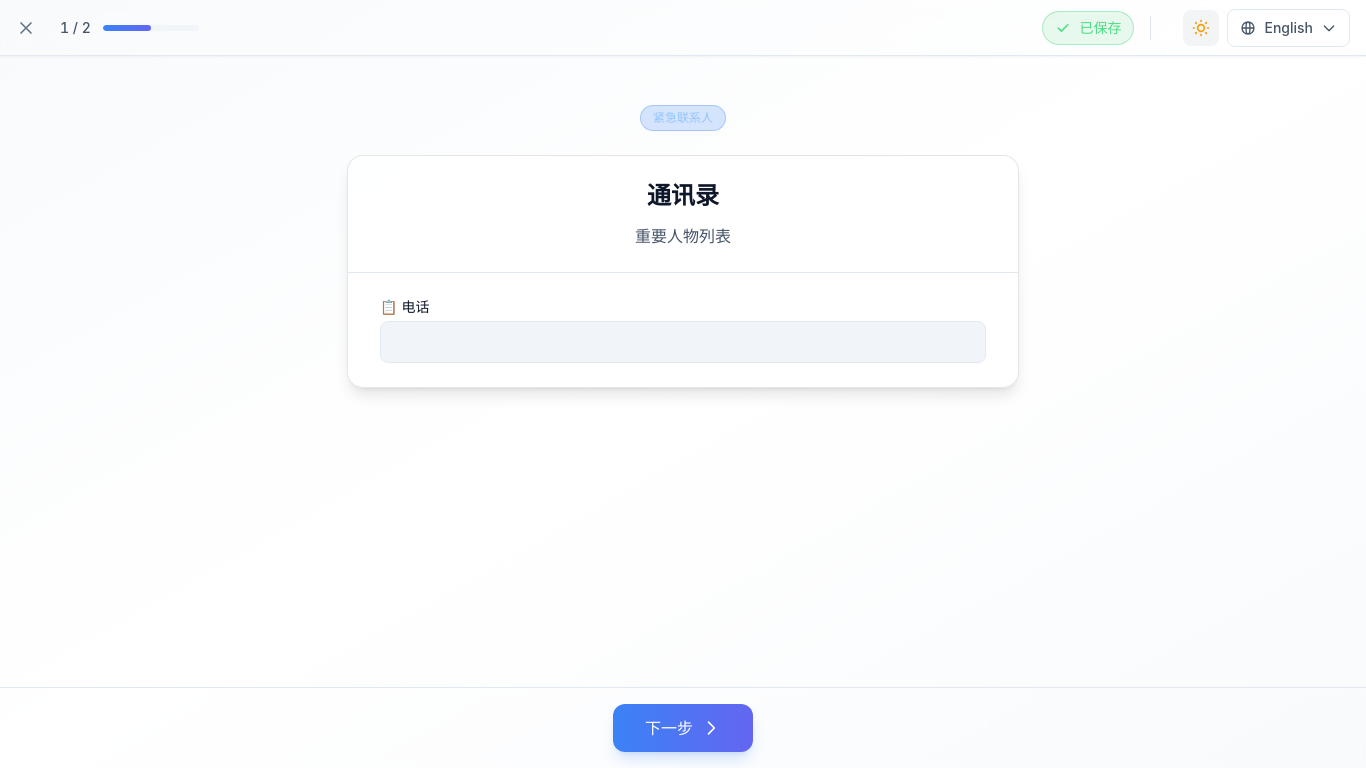
Test: ChecklistPage › Mode Toggle (Requirement 1.5) › should switch from zen mode to free mode when exit button is clicked
The image size is (1366, 768).
What coordinates should you click on to do the following:
click the button named "退出"
I would click on:
 (26, 28)
Its box is [8, 10, 44, 46].
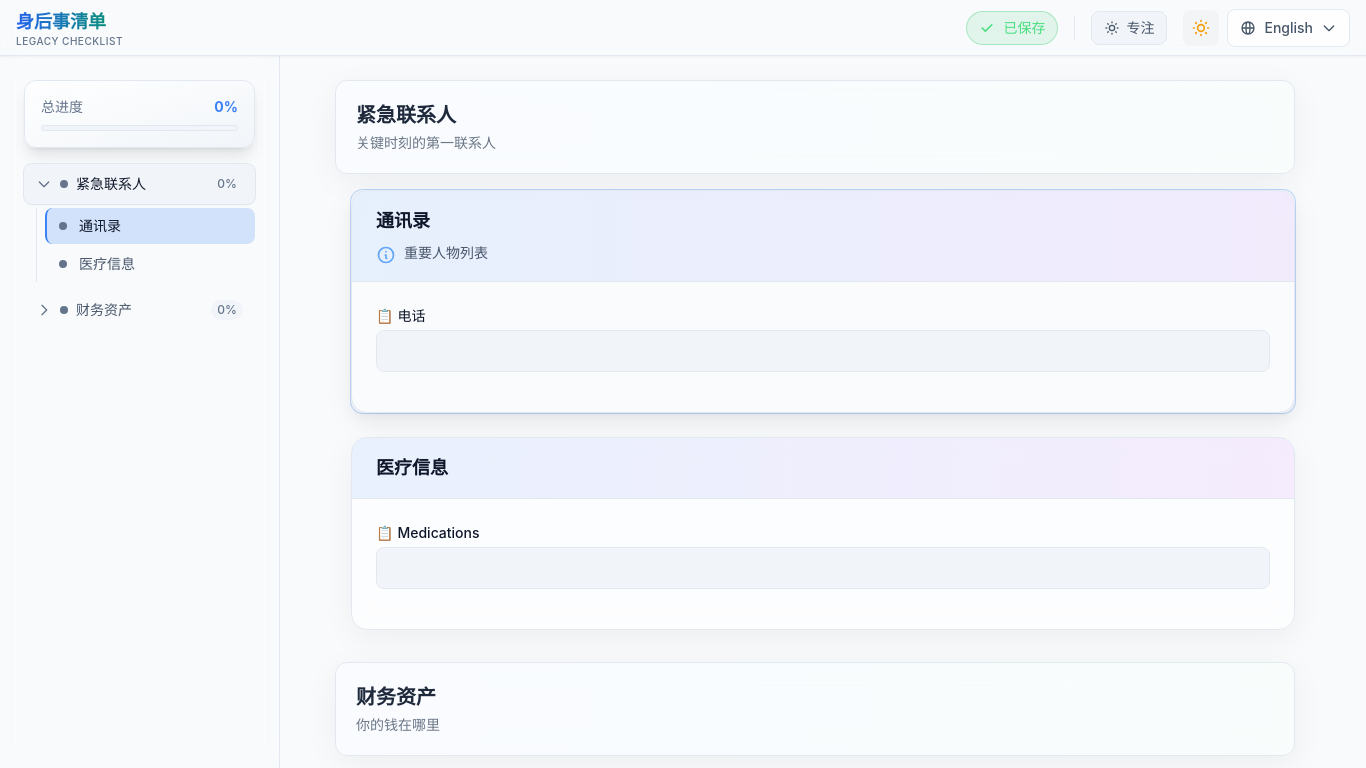
Check: the text "专注" is shown, box [1126, 18, 1154, 38]
Check: the element with test id "checklist-page" is shown
